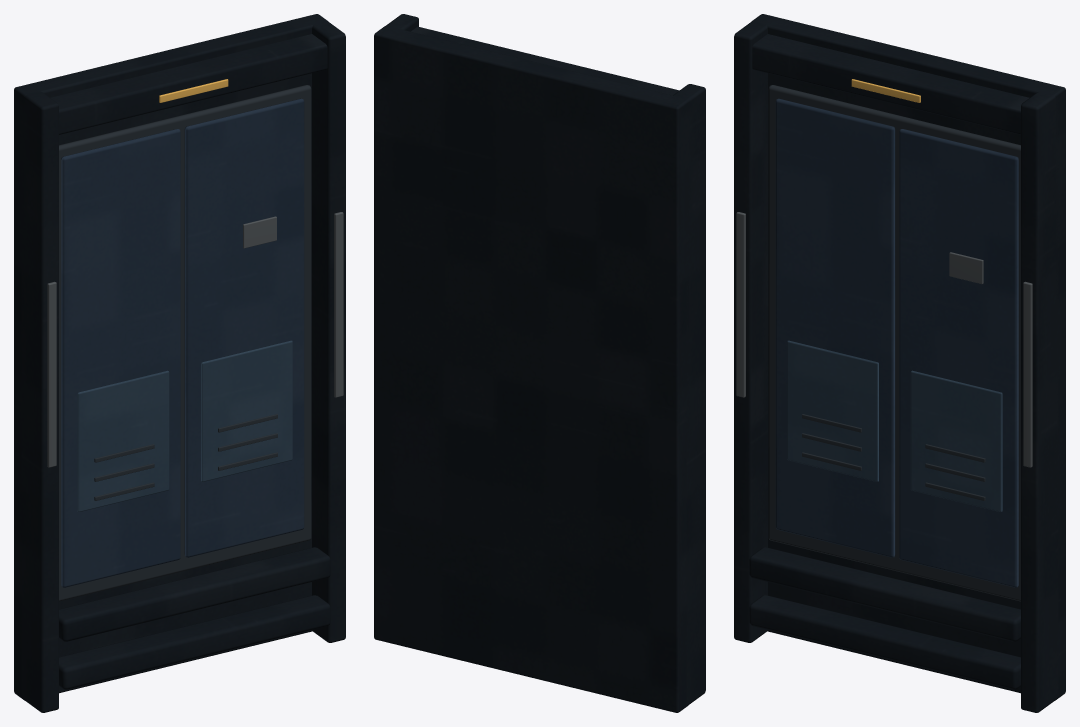
Rendered from Dock_Wall_2m.fbx.
3 views of the same model, side by side, from view 1: azimuth 30°, elevation 25°; view 2: azimuth 150°, elevation 25°; view 3: azimuth 330°, elevation 25° (orthographic).
Visible parts, largest first — view 1: Dock_Wall_2m.002; view 2: Dock_Wall_2m.002; view 3: Dock_Wall_2m.002.
Boxes of the visible parts, x1=… form: Dock_Wall_2m.002: x1=14, y1=14, x2=345, y2=712; Dock_Wall_2m.002: x1=374, y1=14, x2=705, y2=712; Dock_Wall_2m.002: x1=734, y1=14, x2=1065, y2=712.
Bounding box in the file's own units: 200 × 380 × 37.
1 material, 1 textured.
